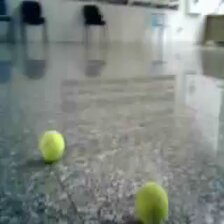tennis: (135, 183, 169, 224), (40, 129, 64, 160)
